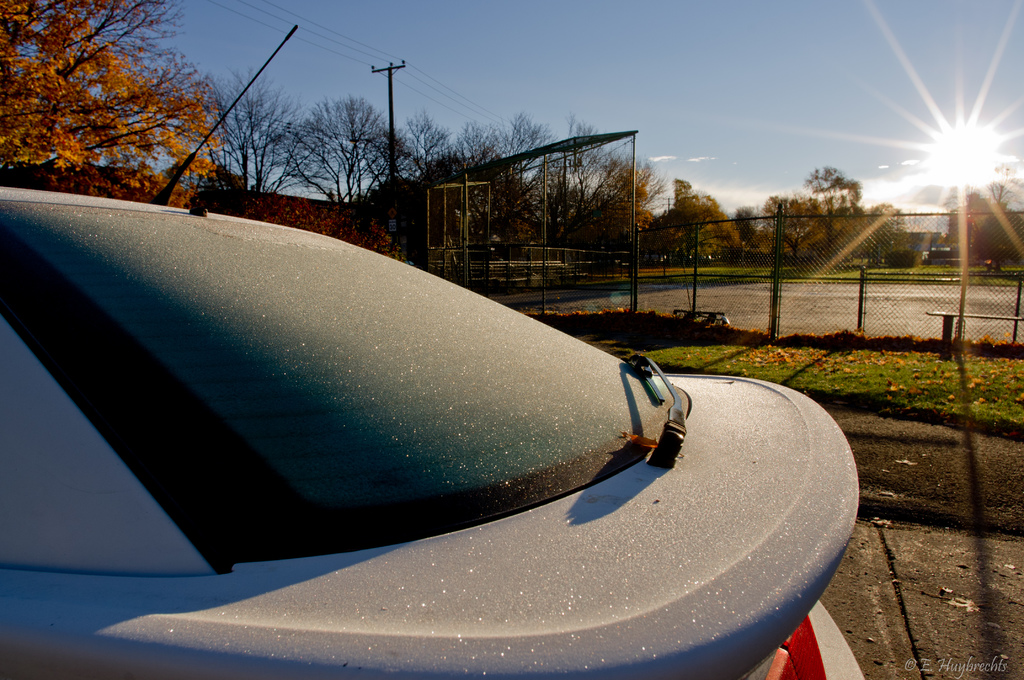cars: (0, 23, 861, 679)
